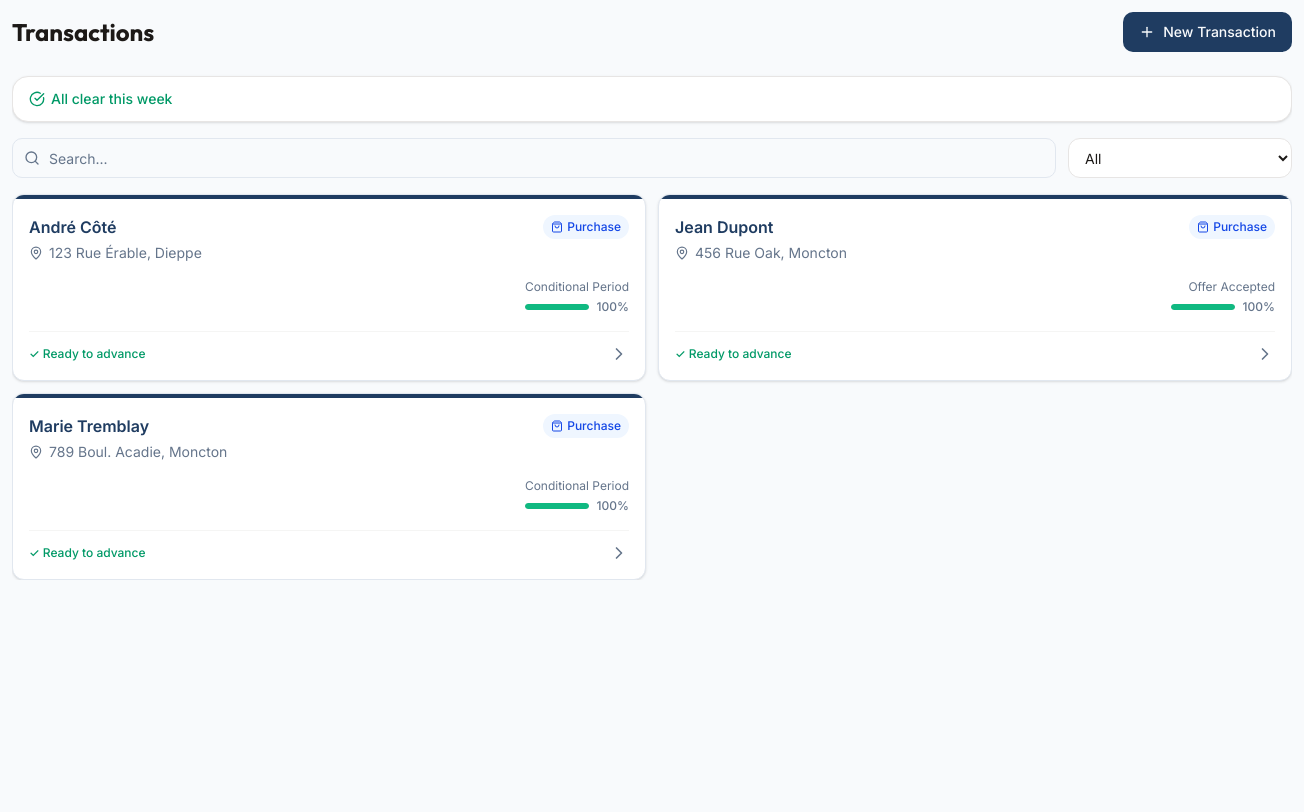
Test: TransactionsPage › SearchBar + Step Filter › X button clears search field
The width and height of the screenshot is (1304, 812).
expect the text "André Côté" is shown: met, box [29,217,116,237]
Note: Type search to filter
Type "dupont" into the field with test id "search-input" at point(534, 158), box [12,138,1056,178]
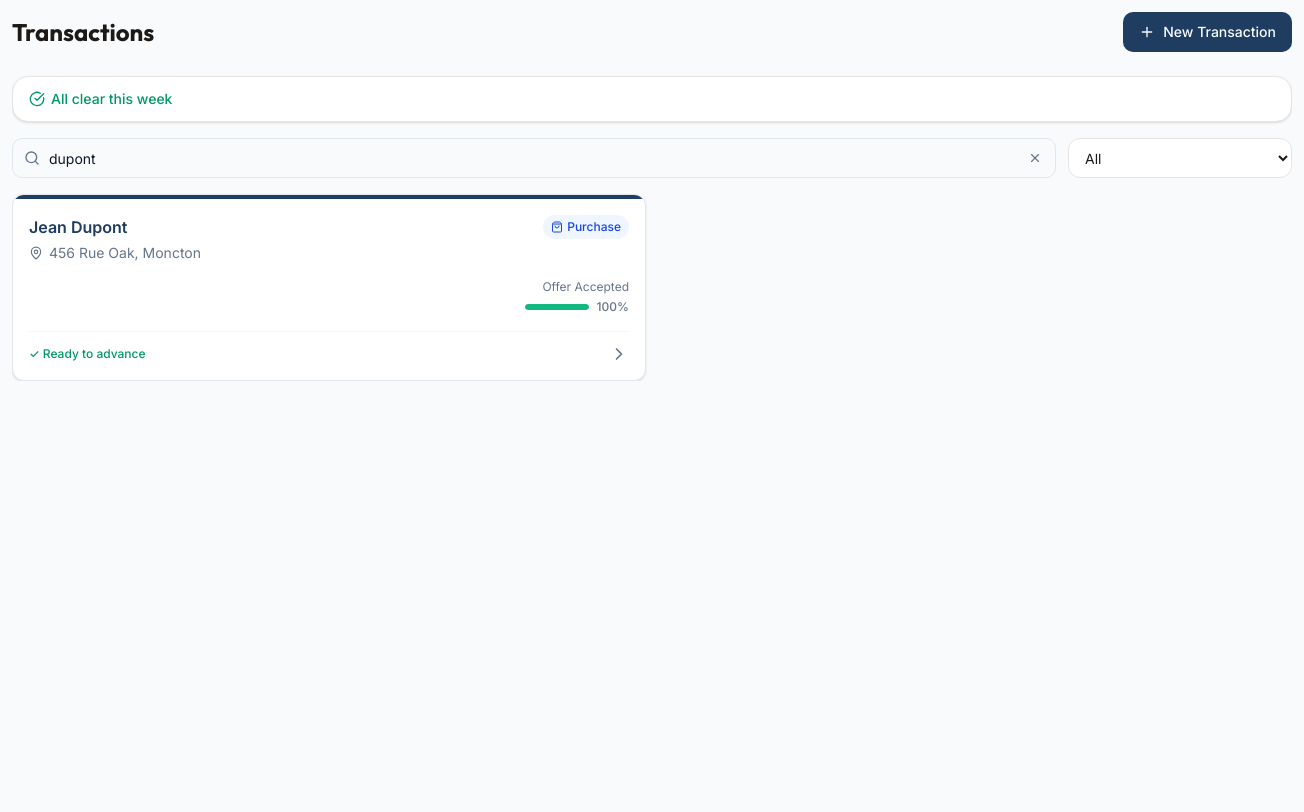
expect the link "André Côté" is gone: met
Note: Click X (clear) button — aria-label is "Close"
Click the button named "Close" at point(1035, 158), box [1026,149,1044,167]
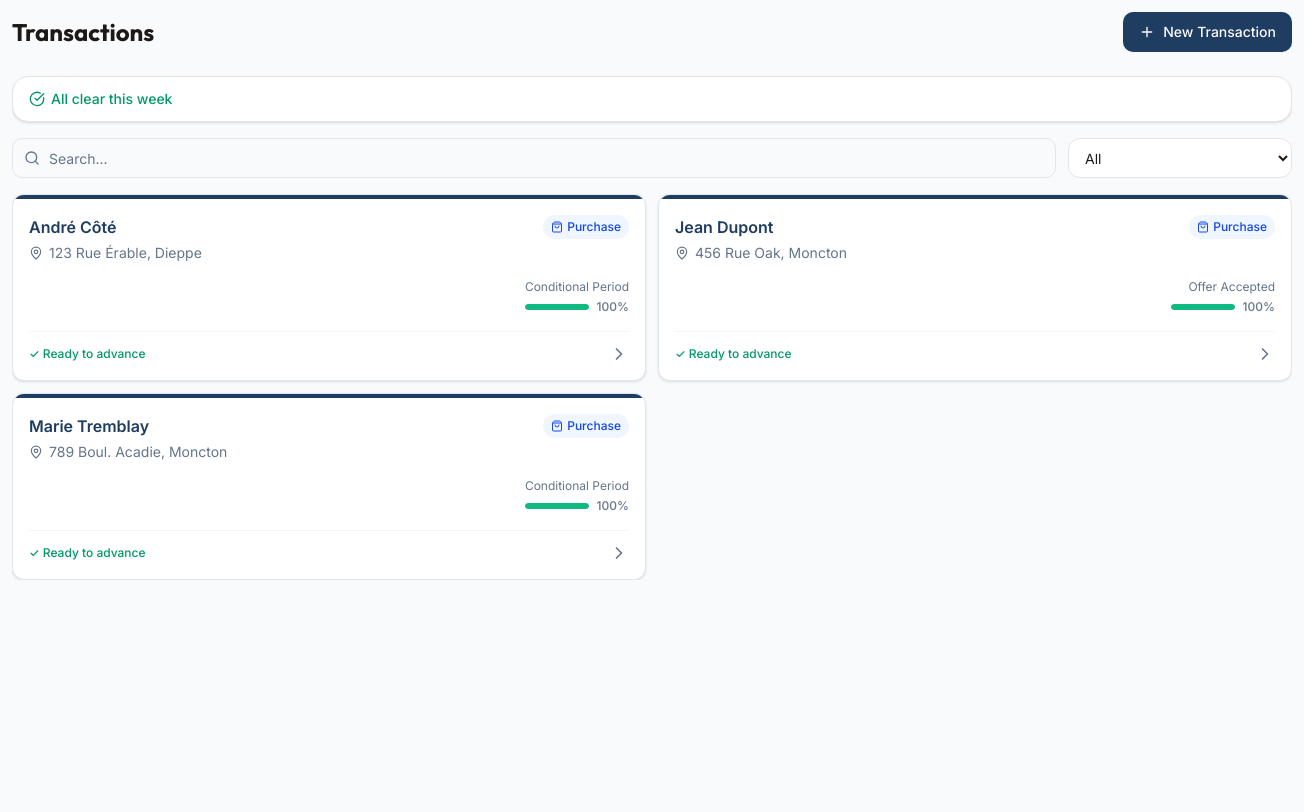
expect the text "Jean Dupont" is shown: met, box [675,217,773,237]
expect the text "André Côté" is shown: met, box [29,217,116,237]
expect the text "Marie Tremblay" is shown: met, box [29,416,149,436]
